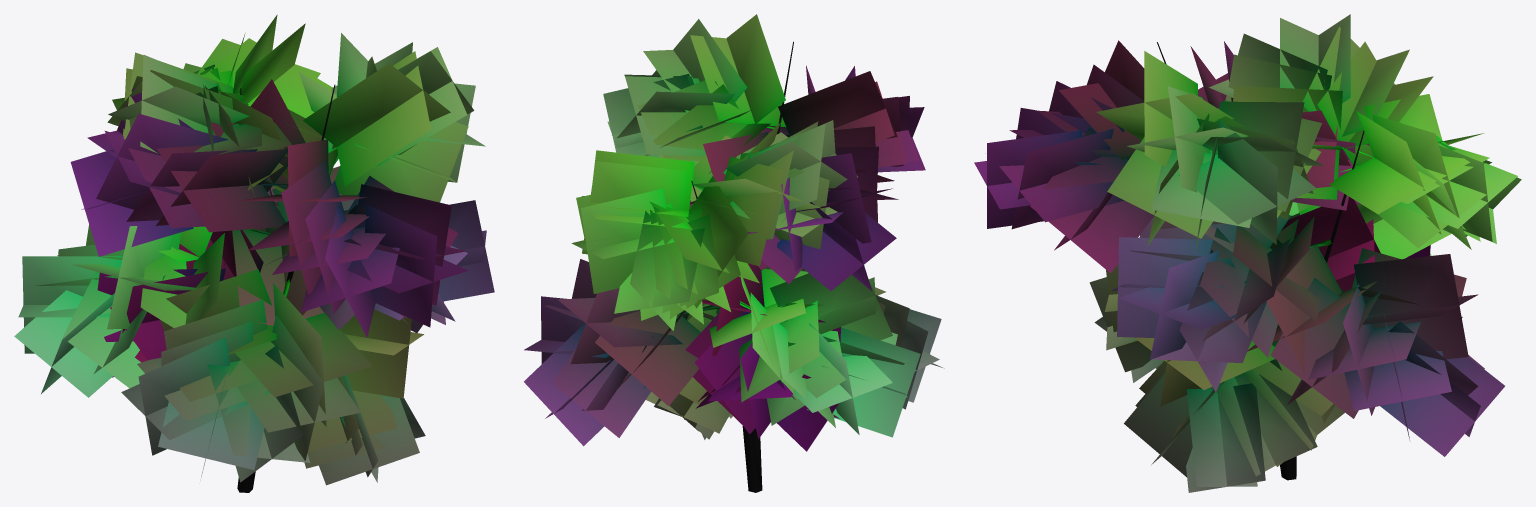
Rendered from URP_P14_Tree_7_LOD_3.fbx.
3 views of the same model, side by side, from view 1: azimuth 30°, elevation 25°; view 2: azimuth 150°, elevation 25°; view 3: azimuth 270°, elevation 25° (orthographic). The views are drawn at different scales.
Visible parts, largest first — view 1: Tree_7_LOD_3; view 2: Tree_7_LOD_3; view 3: Tree_7_LOD_3.
Part boxes in pixels (x1=…): Tree_7_LOD_3: x1=14, y1=14, x2=494, y2=492; Tree_7_LOD_3: x1=524, y1=14, x2=944, y2=492; Tree_7_LOD_3: x1=974, y1=14, x2=1521, y2=492.
Size of the model in its own units: 402 by 448 by 482.
